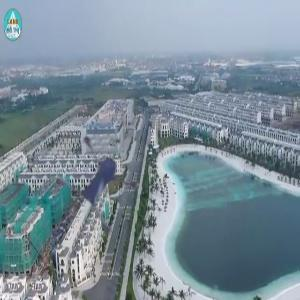drone: (37, 120, 178, 261)
